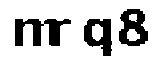8: (117, 4, 150, 50)
m: (11, 16, 54, 51)
q: (78, 15, 116, 59)
r: (55, 14, 71, 51)
